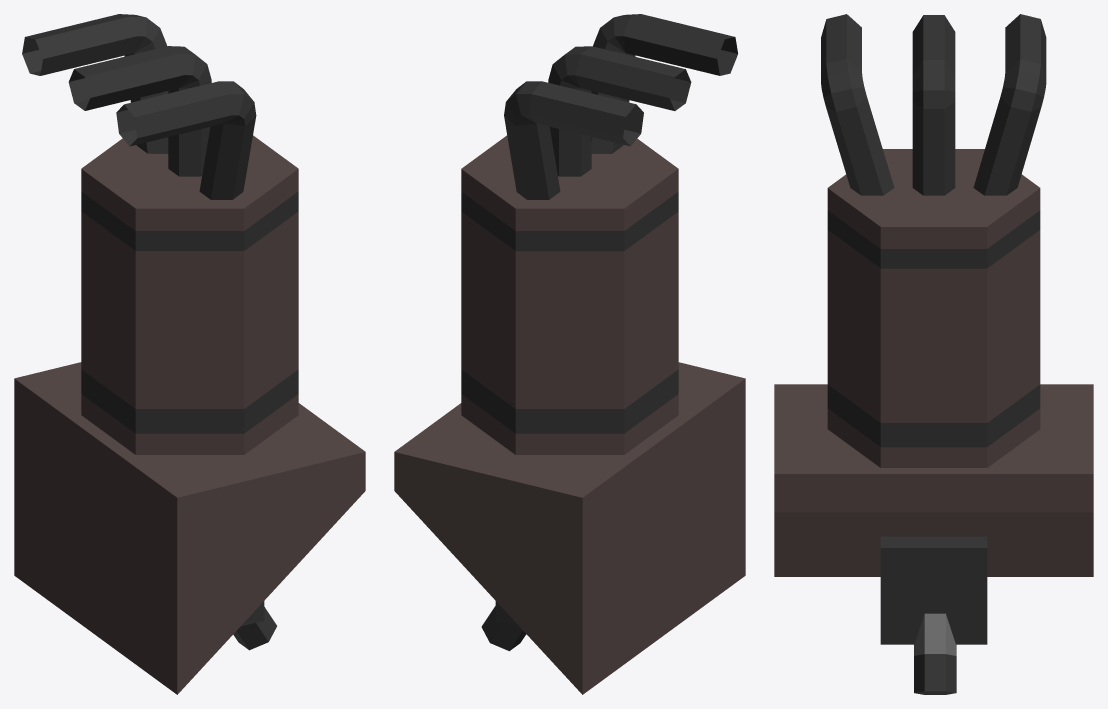
The model's file is Fire_Jet_0.fbx.
3 renders of one model, left to right at view 1: azimuth 30°, elevation 25°; view 2: azimuth 150°, elevation 25°; view 3: azimuth 270°, elevation 25°, orthographic. The views are drawn at different scales.
Visible parts, largest first — view 1: Fire_Jet_0; view 2: Fire_Jet_0; view 3: Fire_Jet_0.
Part boxes in pixels (left/top/right/bottom): Fire_Jet_0: left=14, top=14, right=365, bottom=694; Fire_Jet_0: left=394, top=14, right=745, bottom=694; Fire_Jet_0: left=774, top=14, right=1093, bottom=694.
Bounding box in the file's own units: 54.33 × 156 × 75.
1 material, 1 textured.
